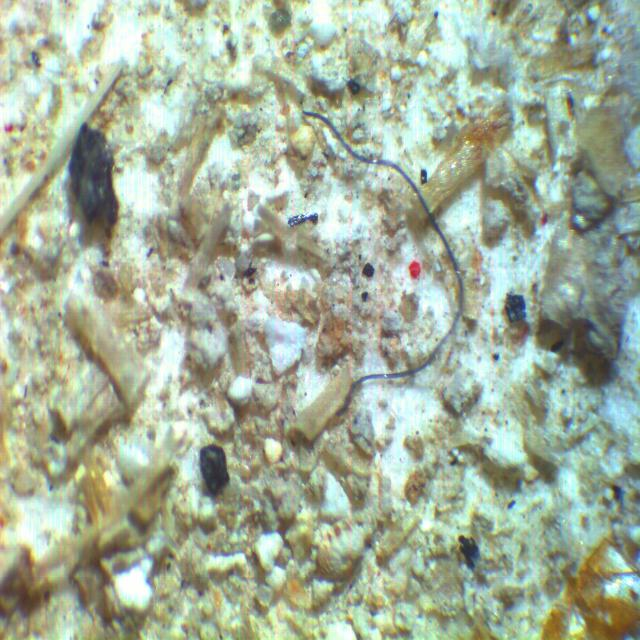microplastic: (302, 110, 464, 416)
